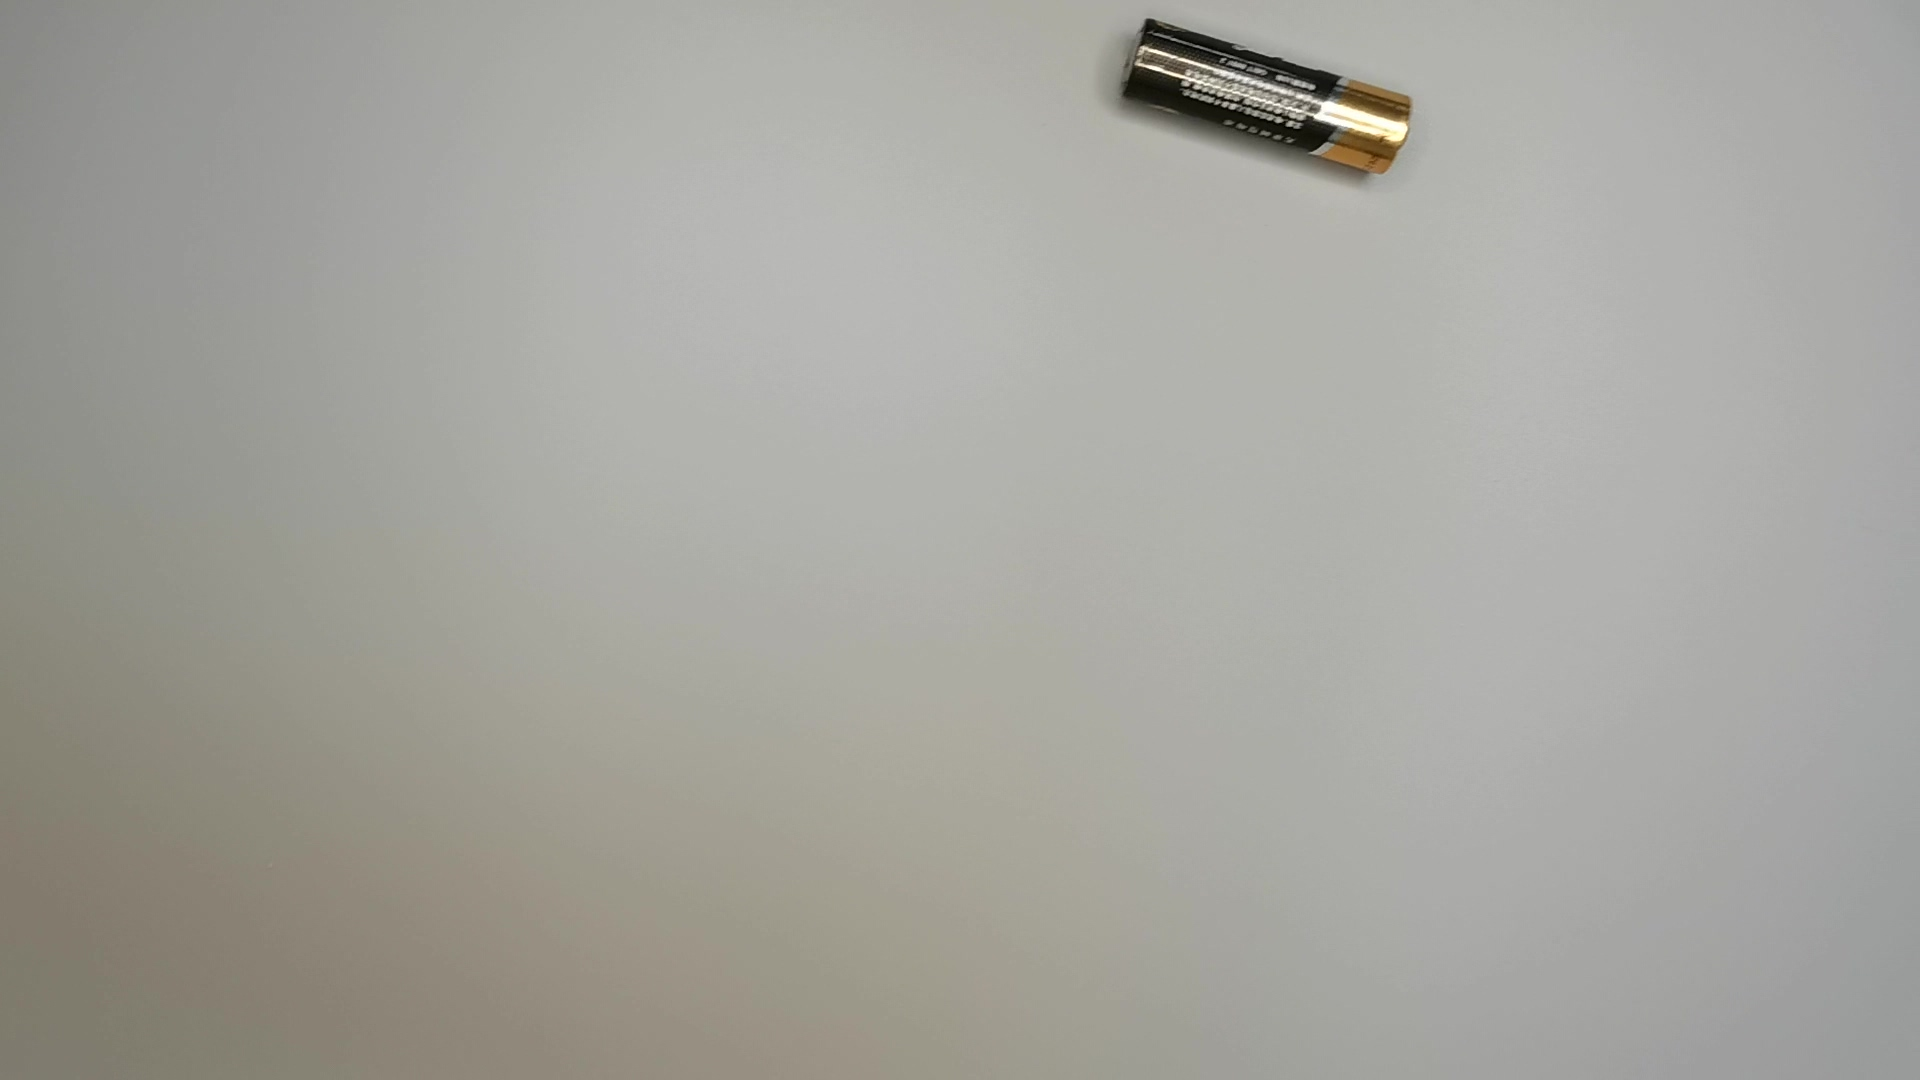battery: (1117, 5, 1429, 187)
